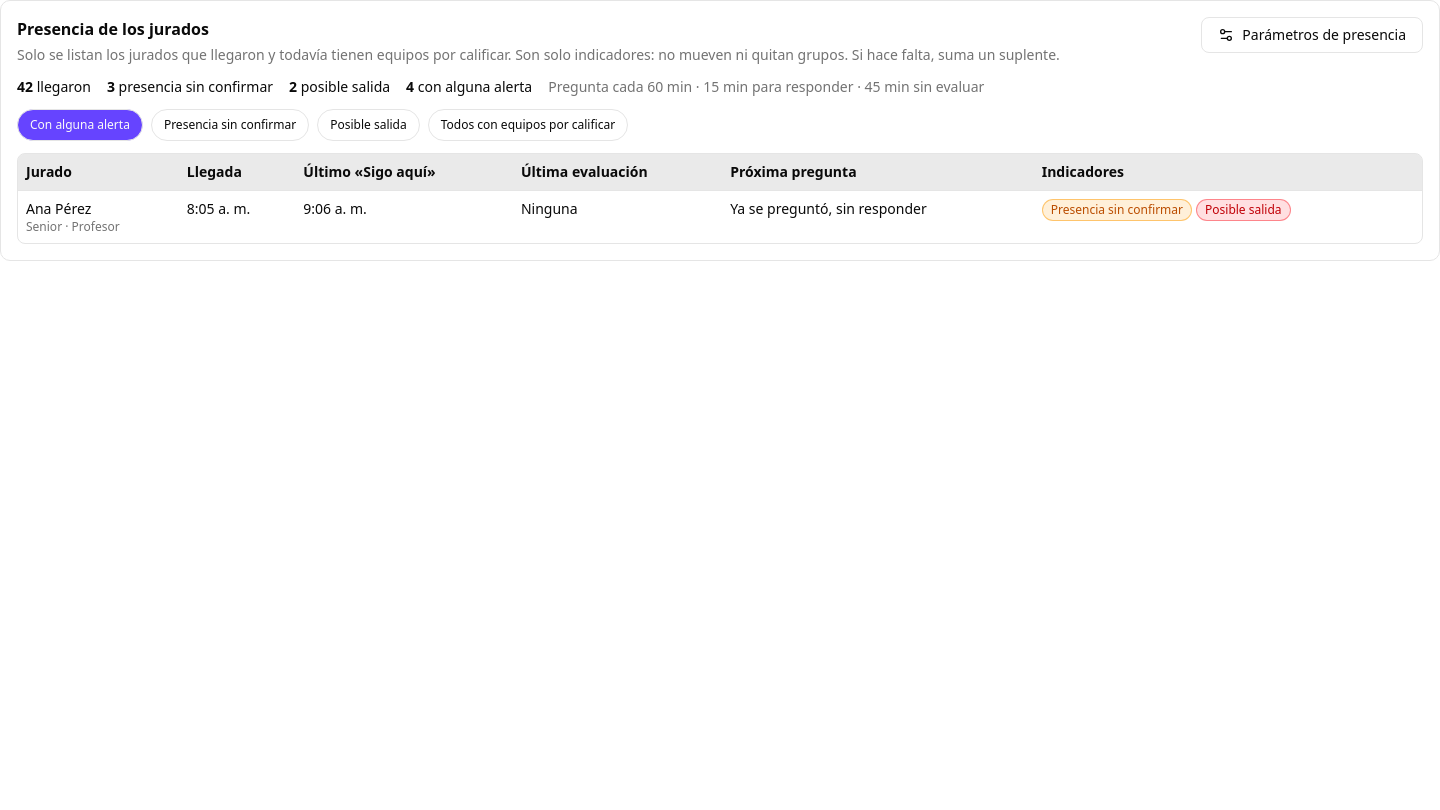
Test: Presencia de los jurados en el panel (HU-23) › guarda solo los parámetros que cambiaron
This screenshot has width=1440, height=810.
Expected: the text "Ana Pérez" is shown, x1=26 y1=199 x2=91 y2=218
Click the button "Parámetros de presencia": point(1312, 35) x1=1201 y1=17 x2=1423 y2=53
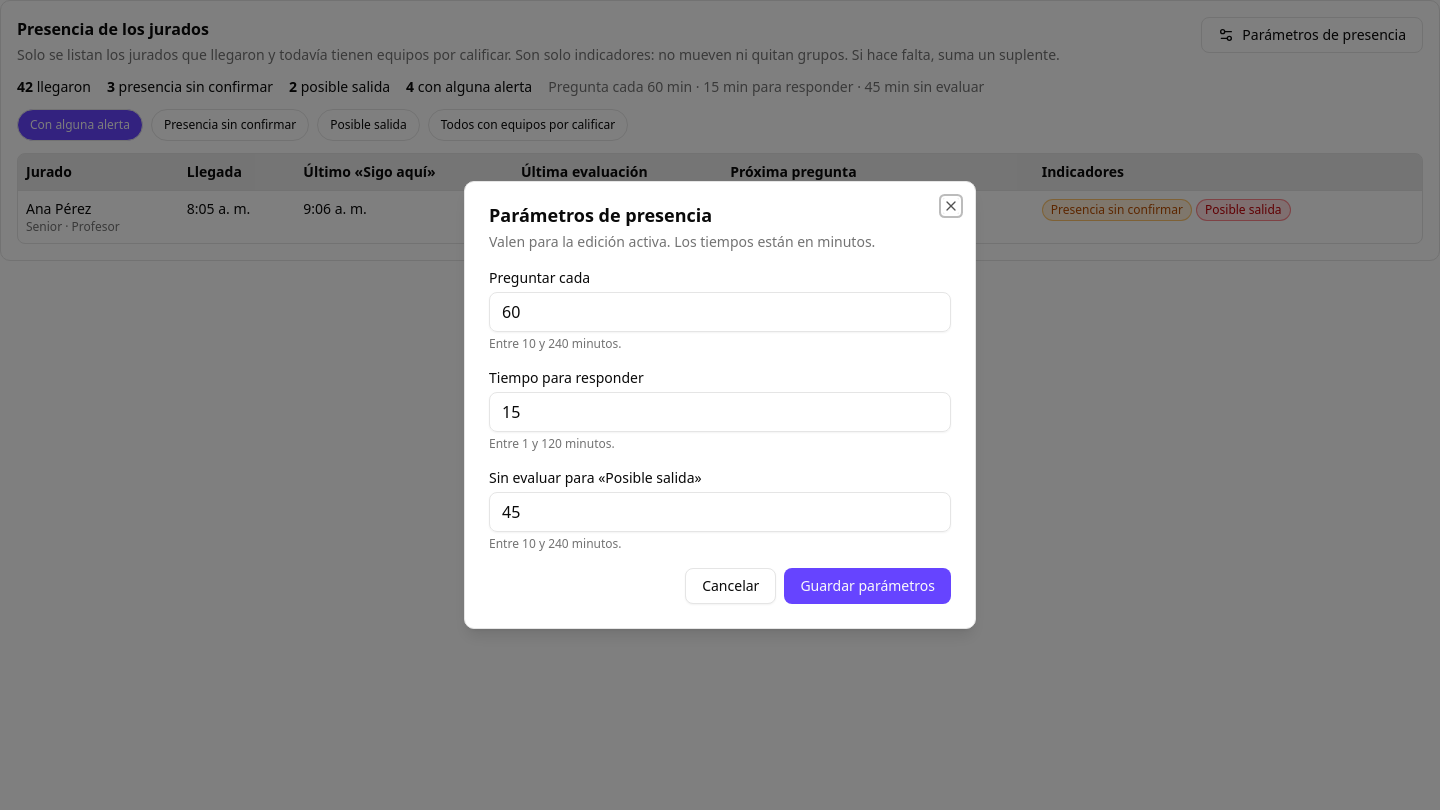
Result: the number field labelled "Tiempo para responder Entre 1 y 120 minutos." holds "15"
Replace the text in the number field labelled "Tiempo para responder Entre 1 y 120 minutos." with "20": point(720, 412) x1=489 y1=392 x2=951 y2=432
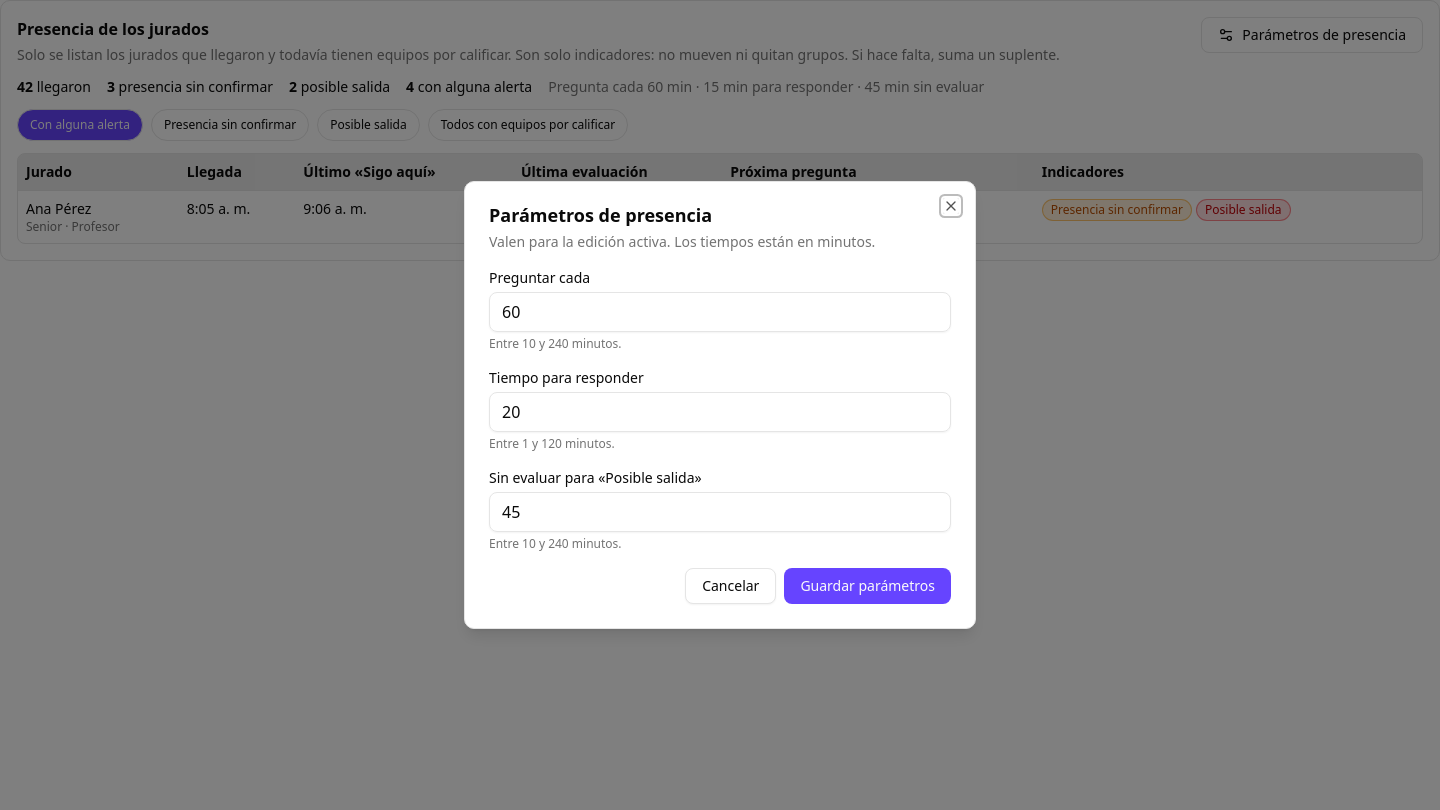
Click the button "Guardar parámetros": point(868, 586) x1=784 y1=568 x2=951 y2=604
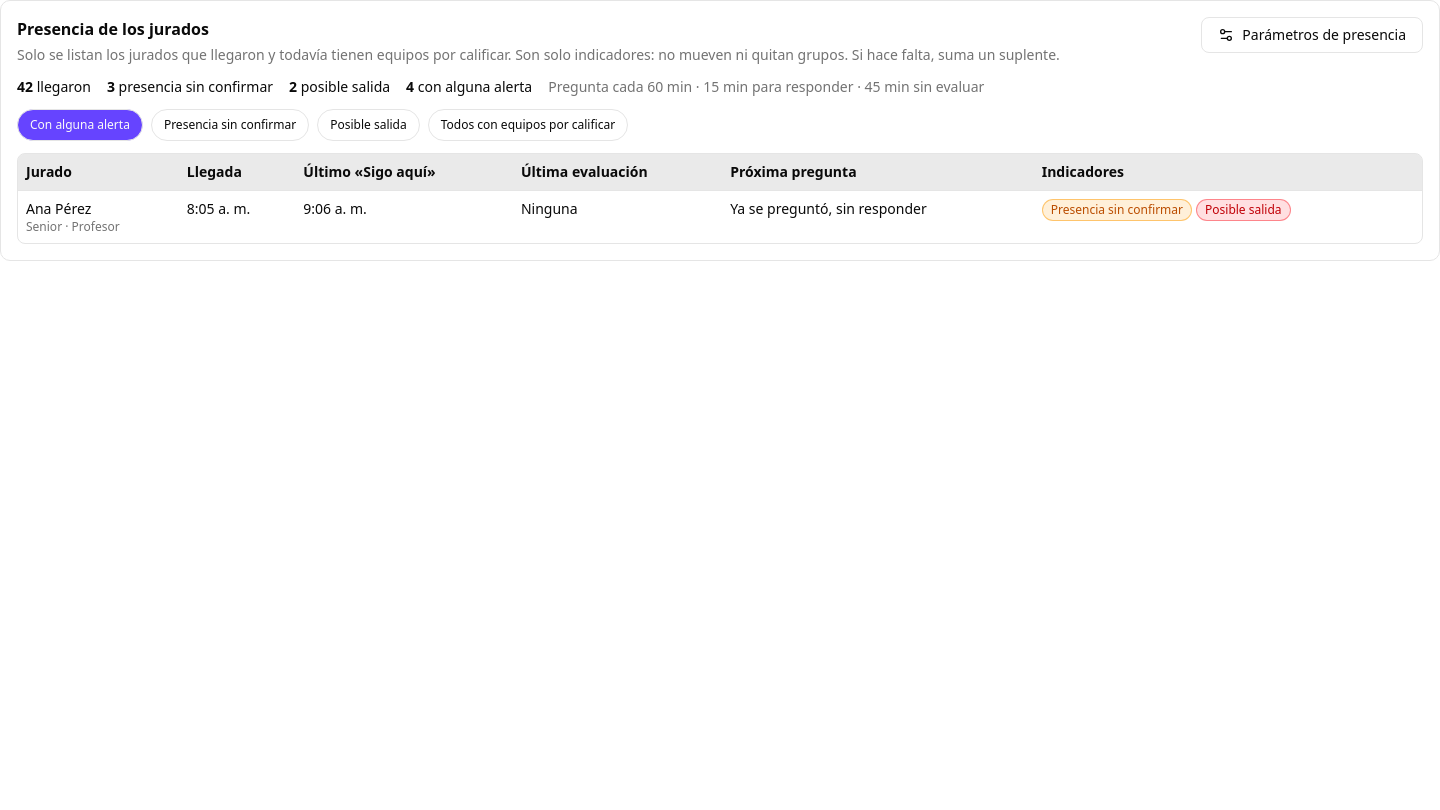
Result: the dialog is gone
